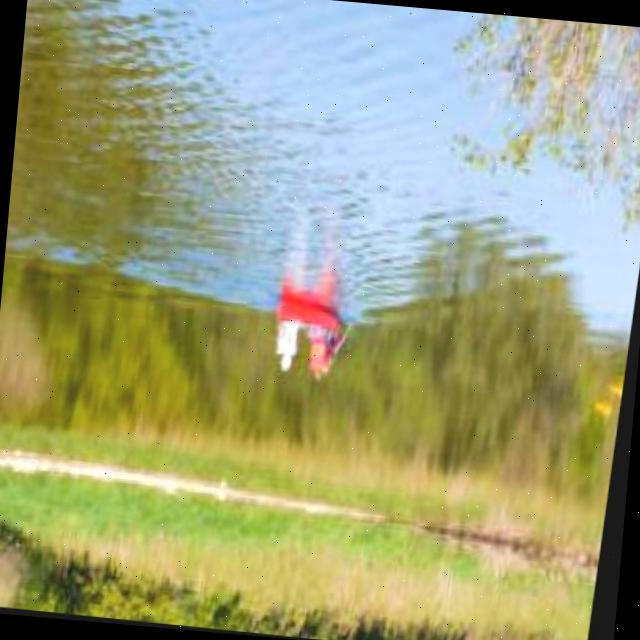kayak: (284, 297, 345, 338)
